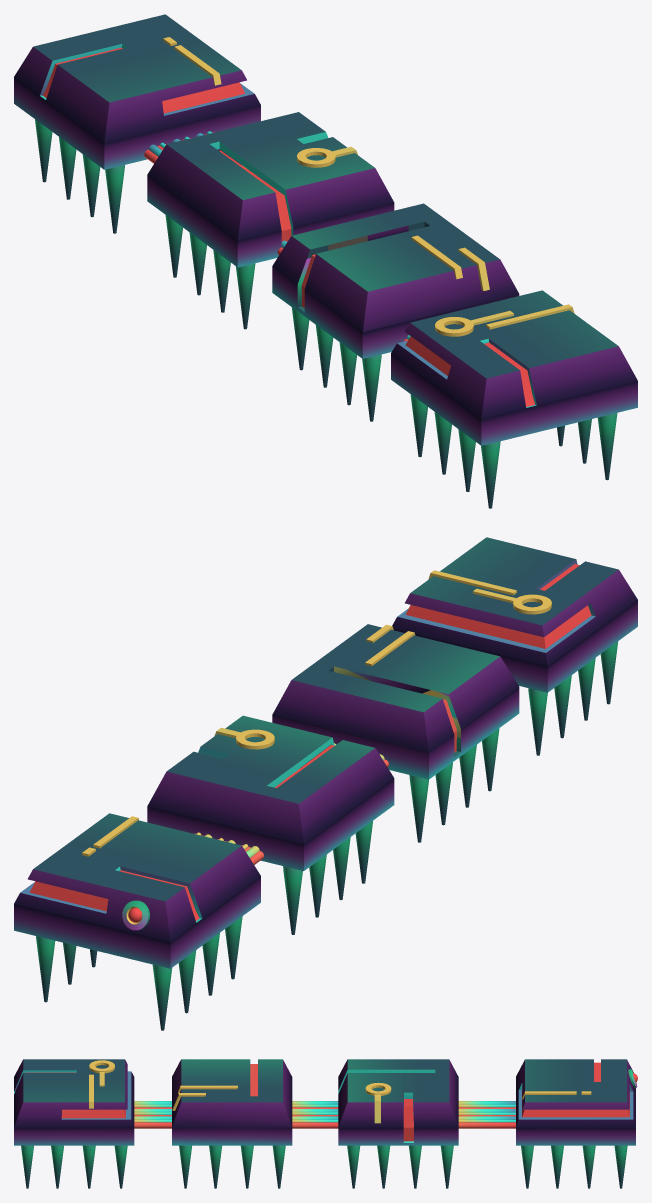
The model's file is Centipede.fbx.
3 renders of one model, top to bottom at view 1: azimuth 30°, elevation 25°; view 2: azimuth 150°, elevation 25°; view 3: azimuth 270°, elevation 25°, orthographic. The views are drawn at different scales.
Visible parts, largest first — view 1: polySurface44, polySurface12, polySurface3, pCube21, pCube22; view 2: polySurface44, polySurface12, polySurface3, pCube21, pCube22; view 3: polySurface44, polySurface12, polySurface3, pCube21, pCylinder165, pCube22, pCylinder168, pCylinder169, pCylinder157, pCylinder143, pCylinder130, pCylinder122 (+1 smaller).
Boxes of the visible parts, x1=… form: polySurface44: x1=14, y1=14, x2=637, y2=445; polySurface12: x1=35, y1=119, x2=617, y2=508; polySurface3: x1=43, y1=47, x2=534, y2=406; pCube21: x1=297, y1=146, x2=574, y2=336; pCube22: x1=163, y1=37, x2=489, y2=290; polySurface44: x1=14, y1=537, x2=637, y2=968; polySurface12: x1=36, y1=641, x2=618, y2=1030; polySurface3: x1=29, y1=564, x2=591, y2=920; pCube21: x1=214, y1=570, x2=551, y2=749; pCube22: x1=82, y1=624, x2=415, y2=856; polySurface44: x1=14, y1=1059, x2=635, y2=1145; polySurface12: x1=21, y1=1145, x2=627, y2=1188; polySurface3: x1=25, y1=1062, x2=629, y2=1141; pCube21: x1=89, y1=1060, x2=391, y2=1123; pCylinder165: x1=458, y1=1103, x2=515, y2=1122; pCube22: x1=172, y1=1085, x2=591, y2=1110; pCylinder168: x1=292, y1=1103, x2=338, y2=1122; pCylinder169: x1=134, y1=1101, x2=171, y2=1122; pCylinder157: x1=458, y1=1122, x2=515, y2=1128; pCylinder143: x1=292, y1=1122, x2=338, y2=1128; pCylinder130: x1=134, y1=1122, x2=171, y2=1128; pCylinder122: x1=458, y1=1101, x2=515, y2=1104.
Size of the model in its own units: 3.39 by 2.83 by 17.57.
